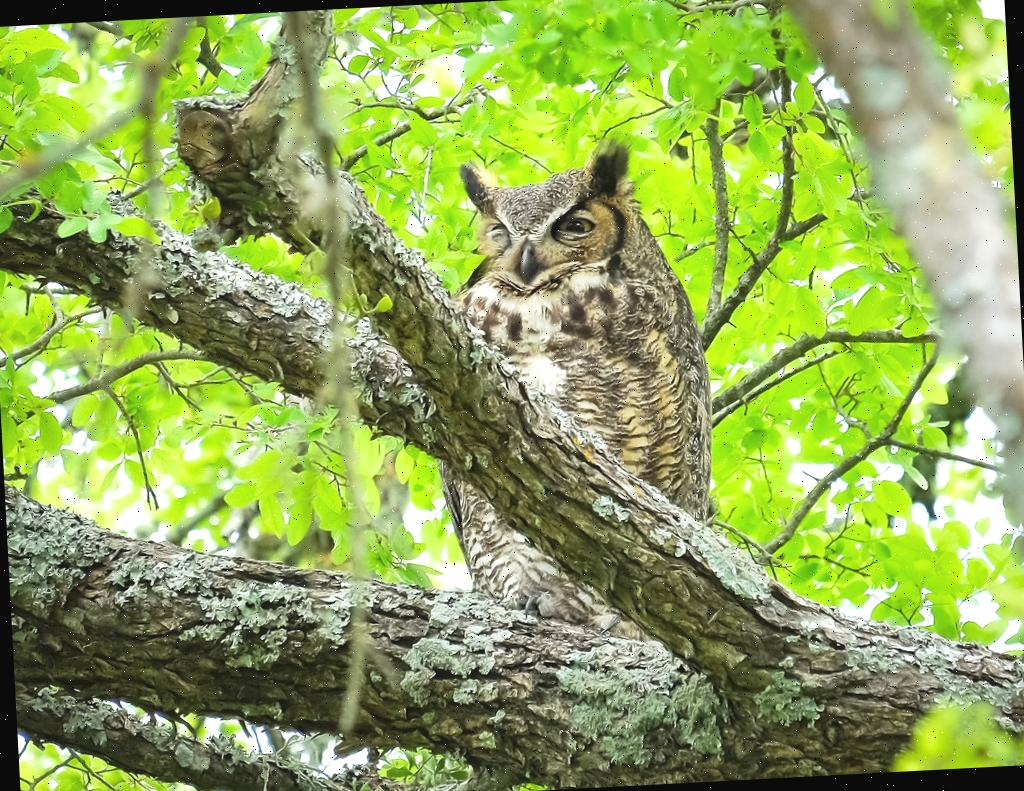Owl: (418, 129, 726, 648)
